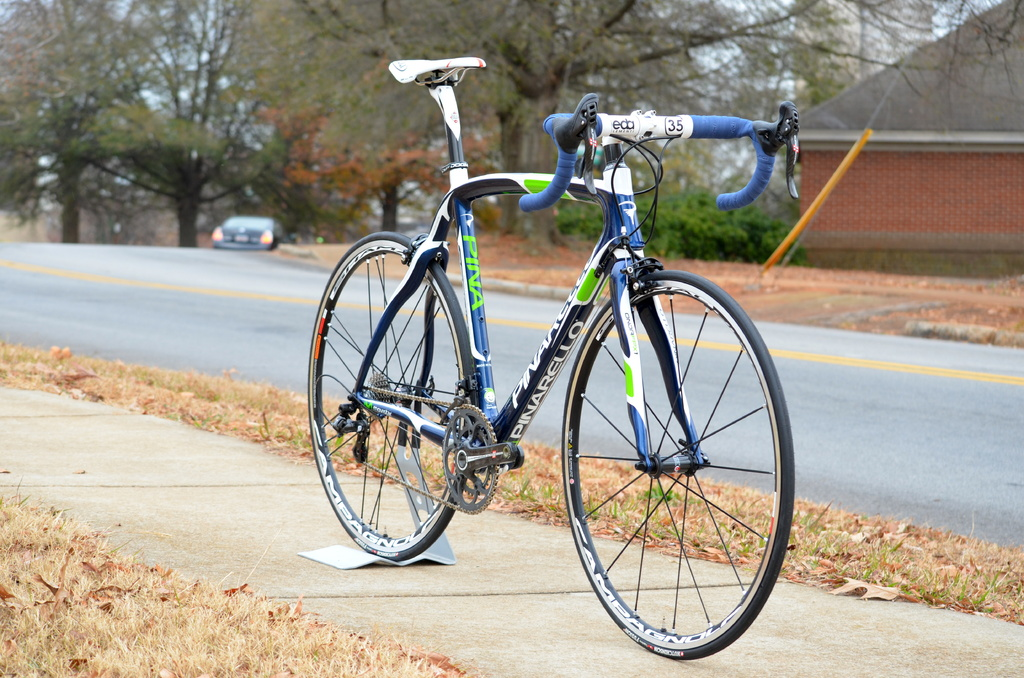Bike_toward: (275, 61, 852, 644)
